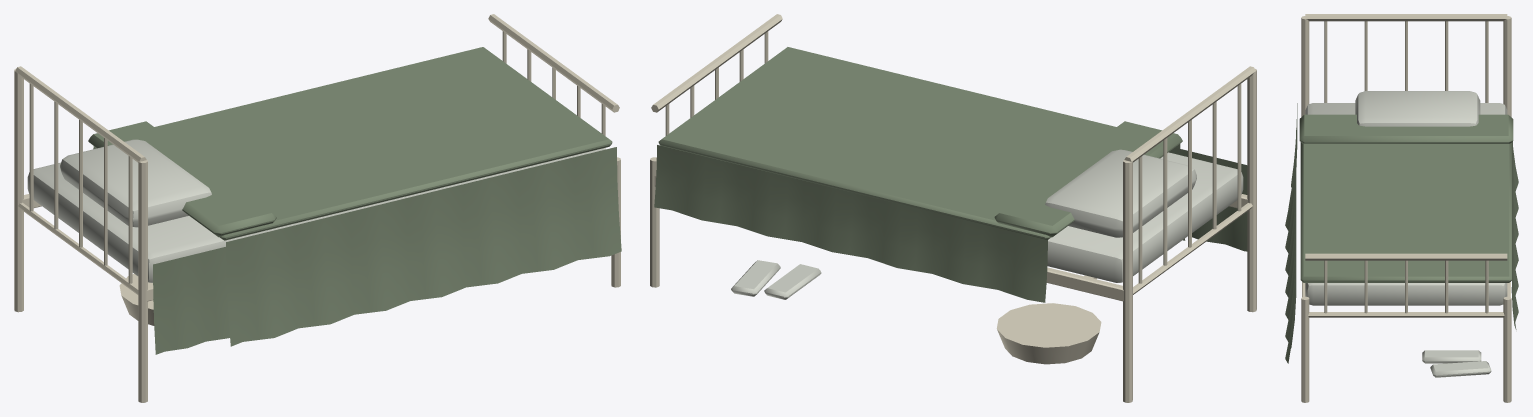
The model's file is bed_hide.glb.
The picture shows the model from 3 angles, left to right: view 1: azimuth 30°, elevation 25°; view 2: azimuth 150°, elevation 25°; view 3: azimuth 270°, elevation 25°; orthographic projection. The views are drawn at different scales.
Parts seen in each view (by area): view 1: BedBody, Door; view 2: BedBody; view 3: BedBody, Door.
Part boxes in pixels (box(x1,y1,x2,y2)): BedBody: box(14, 14, 620, 402); Door: box(226, 147, 621, 346); BedBody: box(650, 14, 1256, 402); BedBody: box(1291, 14, 1518, 402); Door: box(1285, 130, 1296, 363).
Bounding box in the file's own units: 2 × 0.9639 × 1.03.
